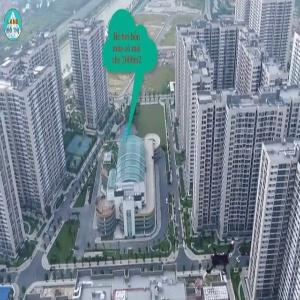drone: (197, 239, 251, 293)
